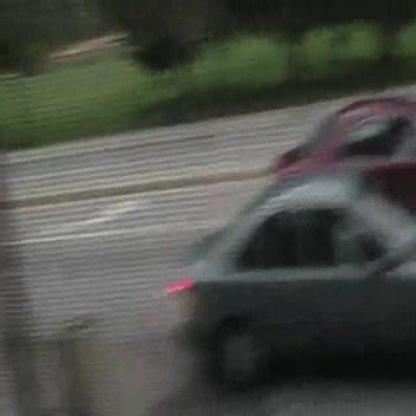other: (160, 268, 204, 312)
